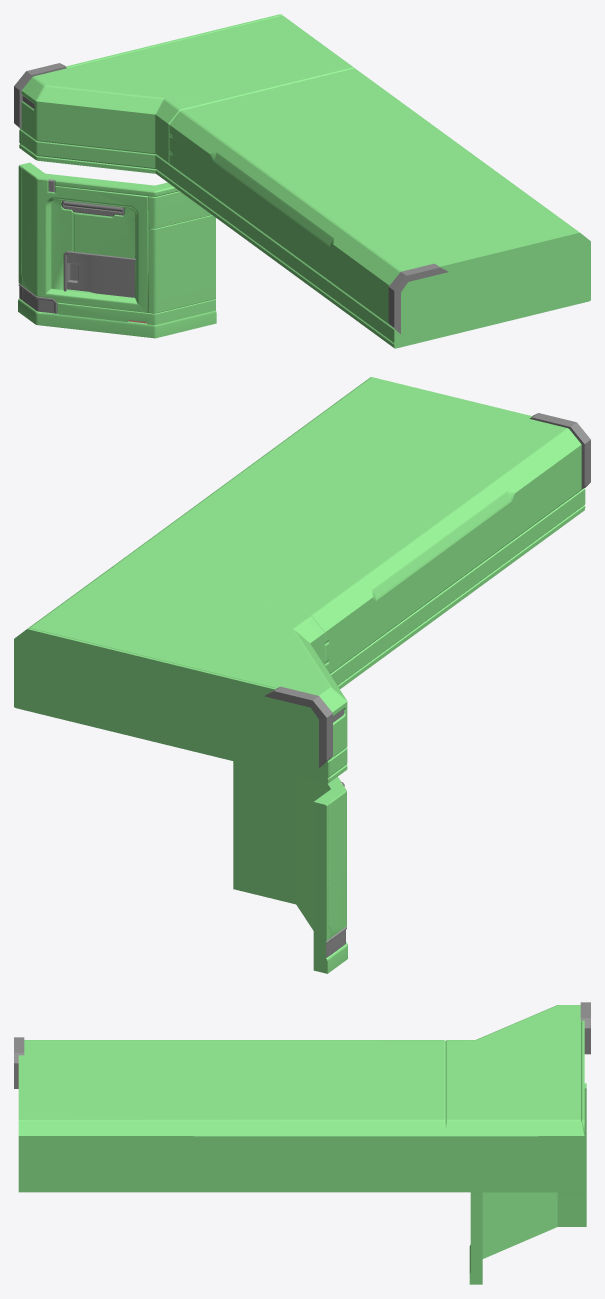
Rendered from S_Envi_FZFBase_Zero_01c.gltf.
3 views of the same model, one above another, from view 1: azimuth 30°, elevation 25°; view 2: azimuth 150°, elevation 25°; view 3: azimuth 270°, elevation 25° (orthographic). The views are drawn at different scales.
Parts seen in each view (by area): view 1: S_Envi_FZFBase_Zero_01c; view 2: S_Envi_FZFBase_Zero_01c; view 3: S_Envi_FZFBase_Zero_01c.
Boxes of the visible parts, box(x1,y1,x2,y2) form: S_Envi_FZFBase_Zero_01c: box(14, 14, 590, 348); S_Envi_FZFBase_Zero_01c: box(14, 377, 590, 973); S_Envi_FZFBase_Zero_01c: box(14, 1002, 590, 1284).
Size of the model in its own units: 10.92 by 8.97 by 20.97.
